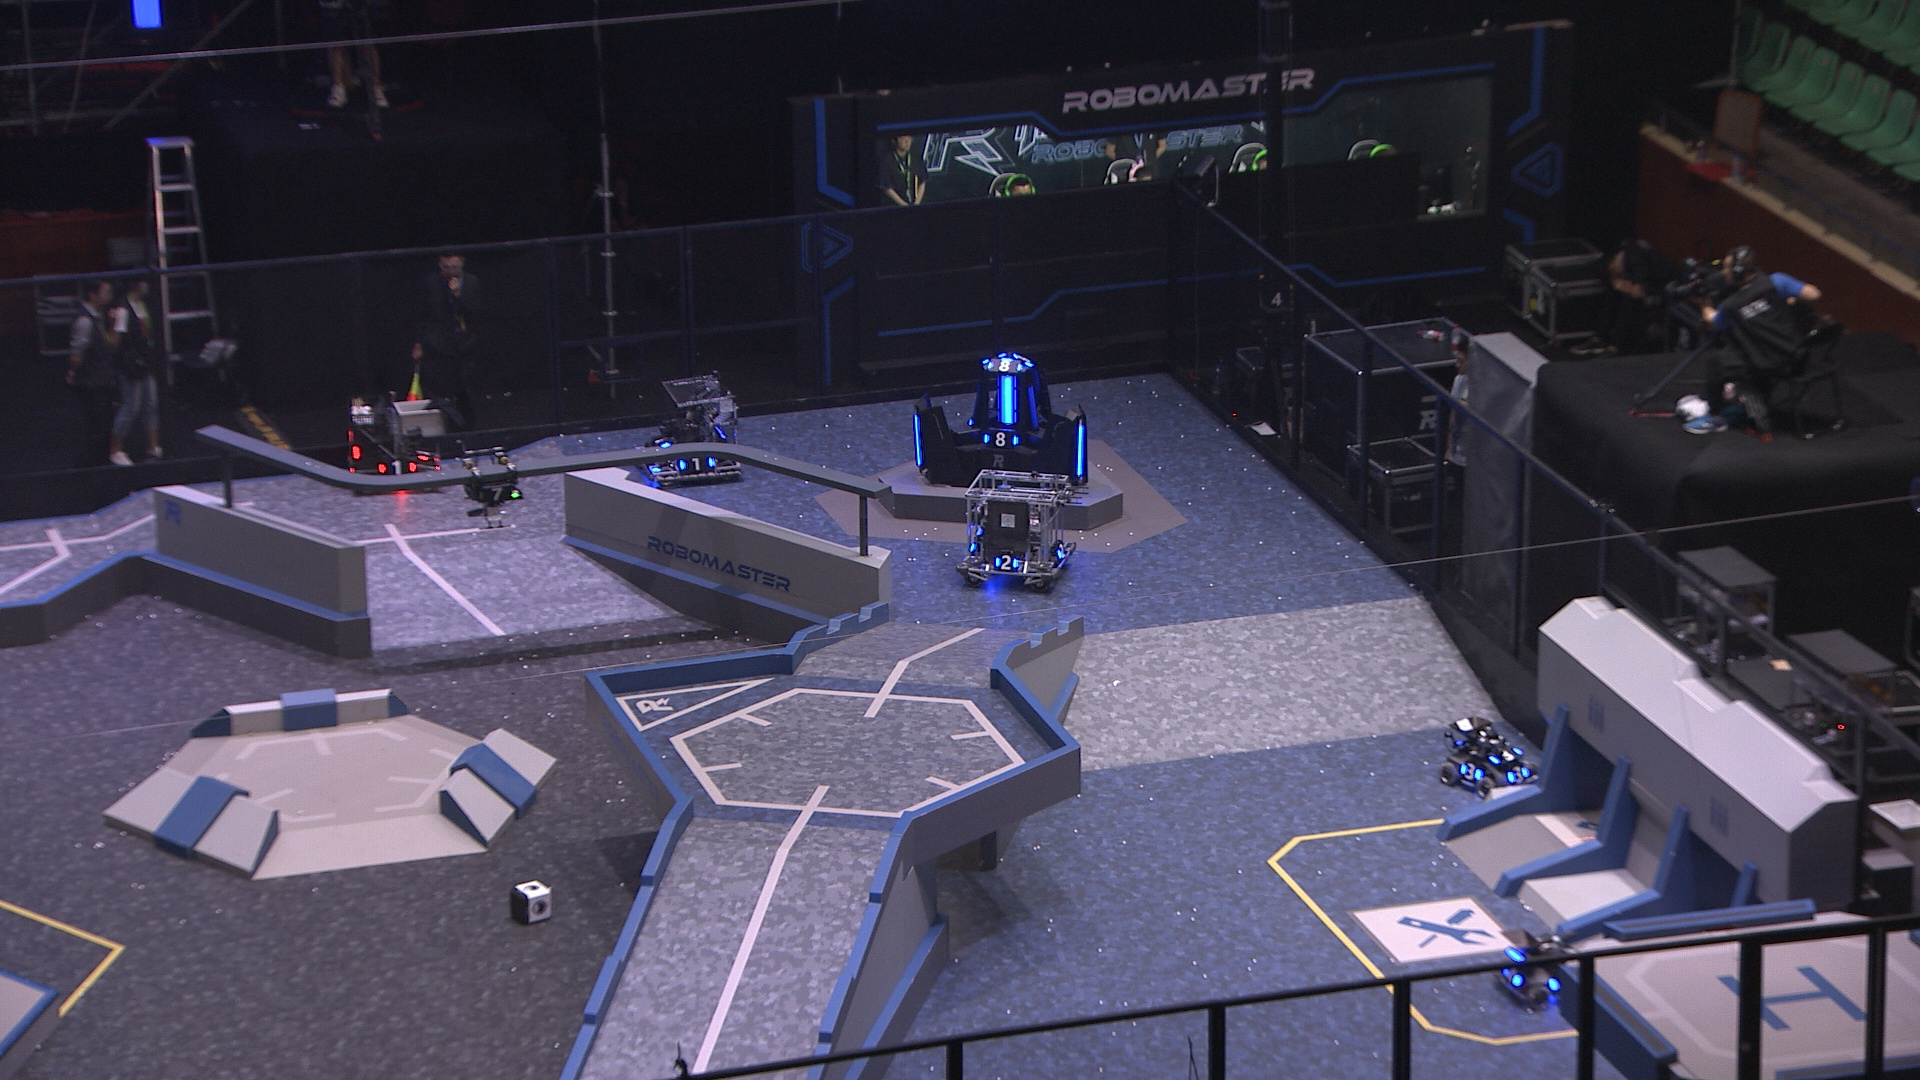armor: (994, 375, 1025, 429), (1025, 384, 1043, 433), (1073, 419, 1088, 481), (477, 484, 520, 504), (1487, 744, 1524, 766), (375, 458, 419, 476), (911, 410, 926, 467), (675, 455, 717, 473), (981, 431, 1021, 448), (1458, 760, 1485, 785), (986, 357, 1025, 375), (1505, 764, 1531, 785), (1501, 965, 1523, 989), (994, 553, 1021, 572), (651, 433, 675, 451), (413, 443, 433, 463), (1013, 352, 1035, 367), (340, 454, 357, 472), (1055, 542, 1069, 560)
base: (906, 345, 1091, 491)
car: (956, 465, 1077, 589), (636, 368, 745, 489), (338, 396, 447, 496), (1437, 717, 1539, 799), (1493, 928, 1582, 1006)
watcher: (455, 439, 526, 531)
